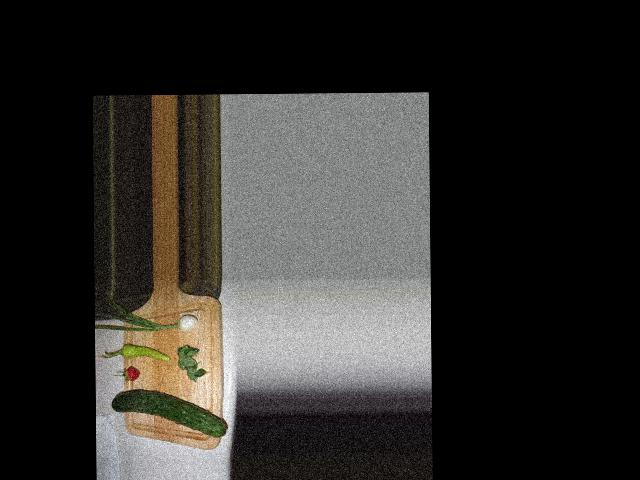cucumber: (112, 389, 226, 438)
